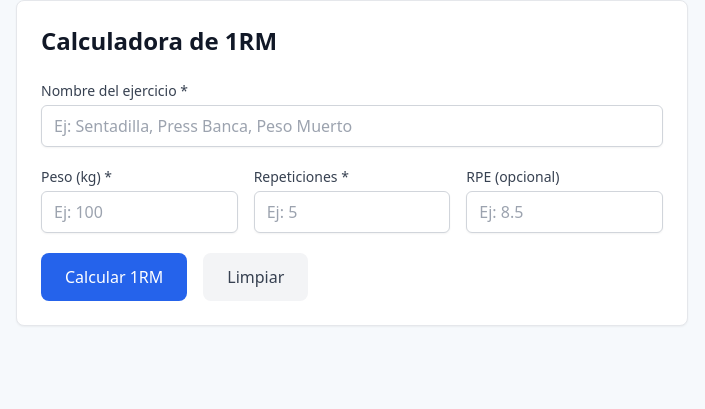
Test: OneRMCalculator › shows error when weight is zero or negative
In the number field labelled "Peso (kg) *": (139, 212) [41,191,238,233], type "0"
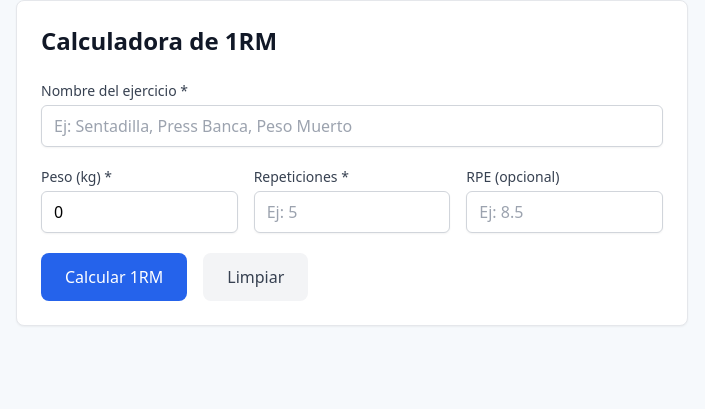
In the number field labelled "Repeticiones *": (352, 212) [254,191,450,233], type "5"
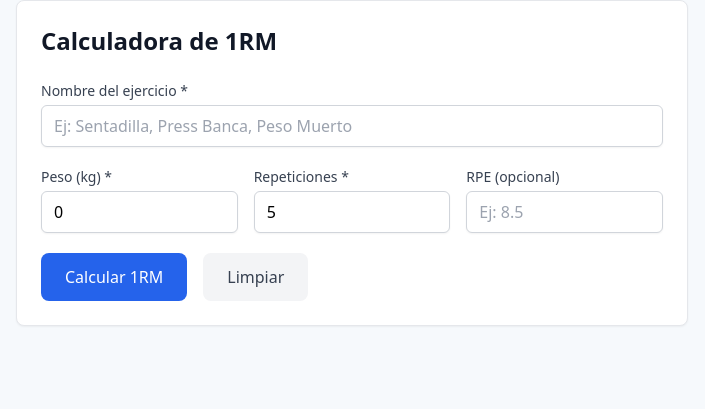
Submit the form with test id "onerm-form", box [41,81,663,301]
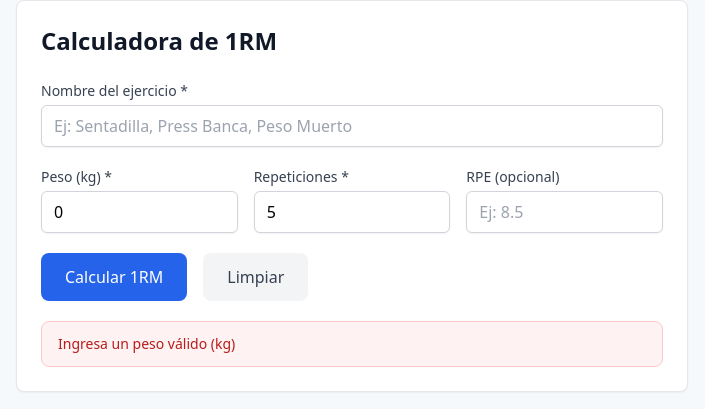
Expected: the text "Ingresa un peso válido (kg)" is shown, [41,321,663,367]
